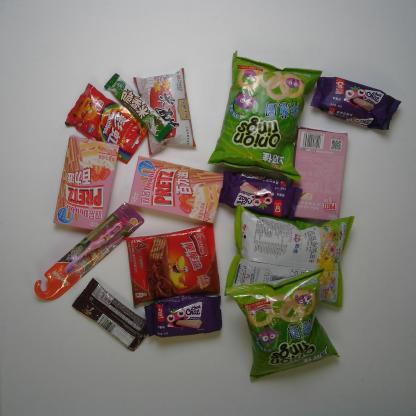Candy: (63, 74, 150, 158)
Chocolate: (68, 277, 150, 357), (104, 67, 175, 144)
Dessert: (122, 226, 228, 309), (126, 155, 229, 226), (51, 134, 124, 234), (286, 124, 356, 224), (307, 69, 405, 132), (221, 168, 303, 221), (139, 296, 233, 338)
Personal Hygiene: (27, 204, 148, 303)
Puffed Food: (217, 201, 369, 310), (206, 46, 322, 182), (222, 269, 346, 382)
Seasoner: (132, 66, 204, 159)
